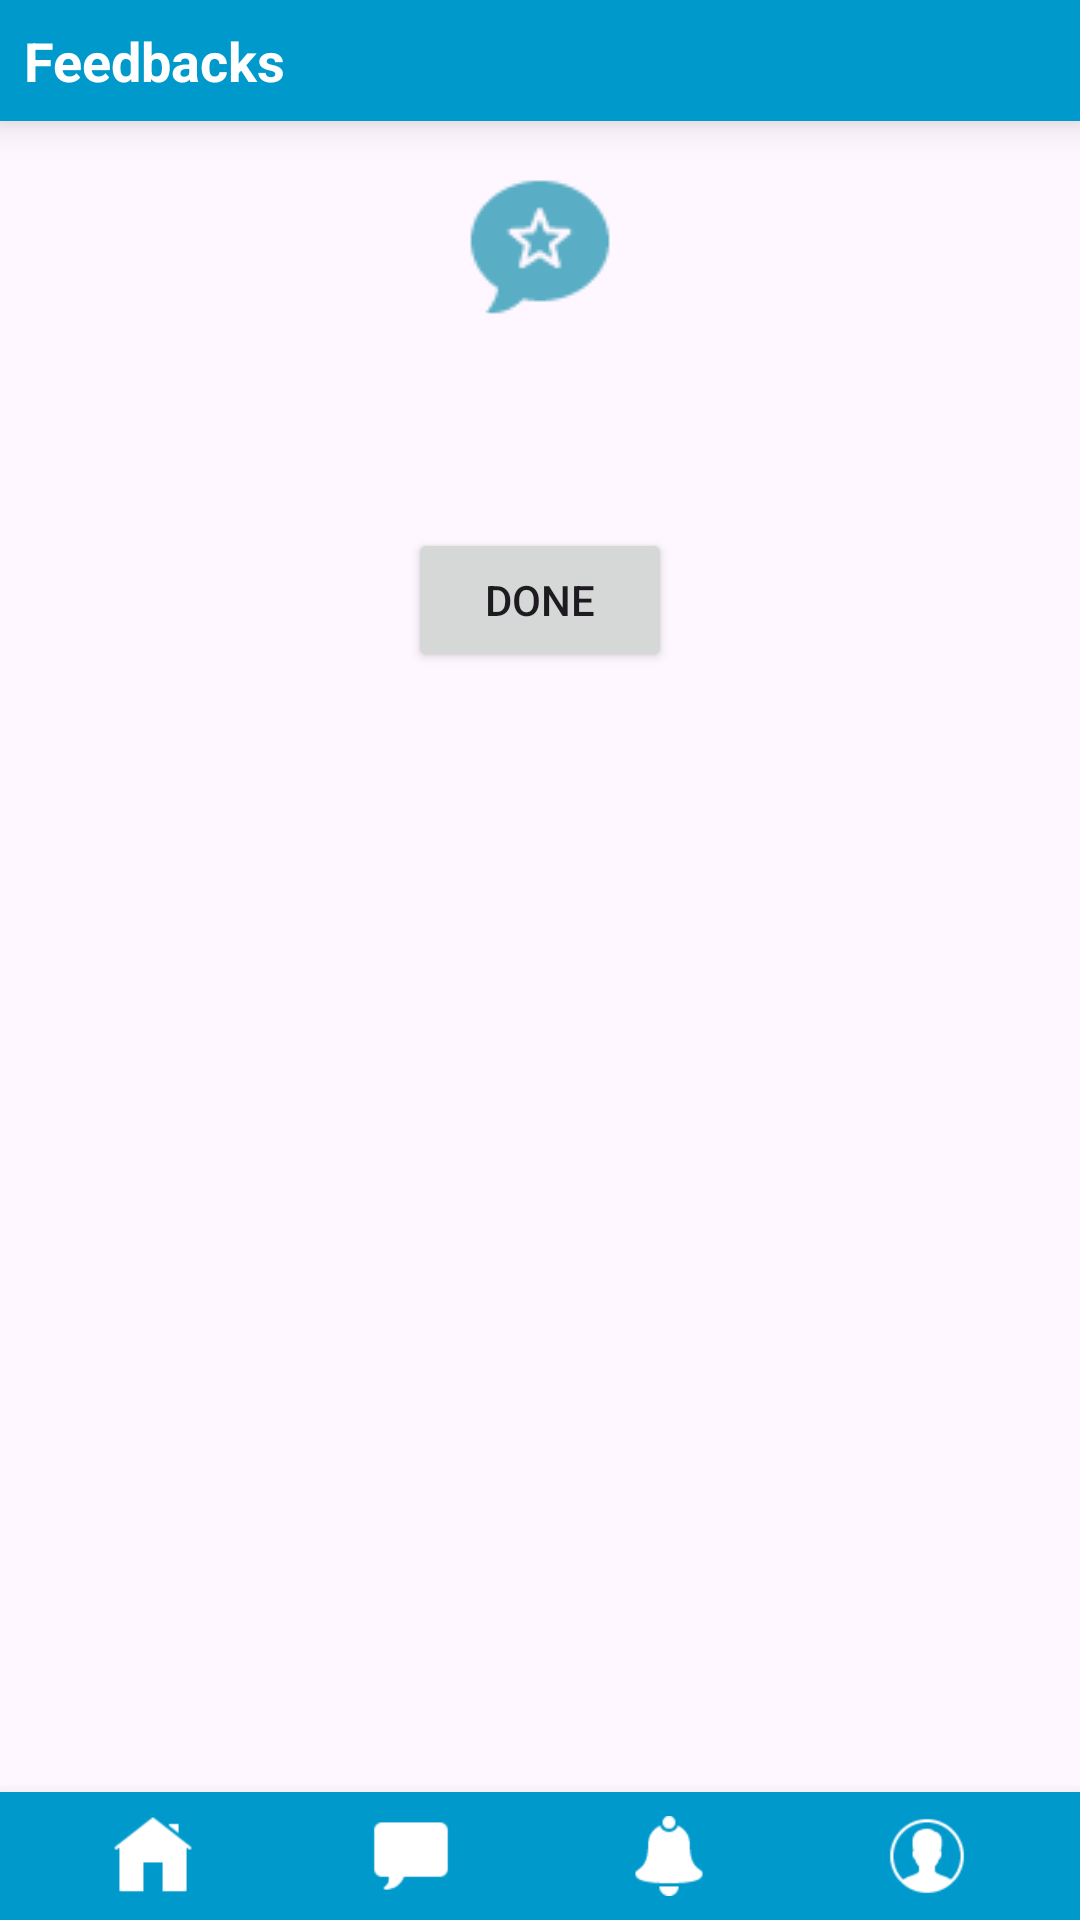

Icon bounding boxes for this 1080*1920 phone screenshot, format {"left": x1, "top": y1, "right": x2, "bottom": y2}:
chat: {"left": 374, "top": 1822, "right": 448, "bottom": 1890}
feedback: {"left": 470, "top": 180, "right": 610, "bottom": 314}
home: {"left": 114, "top": 1817, "right": 192, "bottom": 1892}
noti: {"left": 635, "top": 1816, "right": 703, "bottom": 1896}
profile: {"left": 890, "top": 1819, "right": 964, "bottom": 1893}
